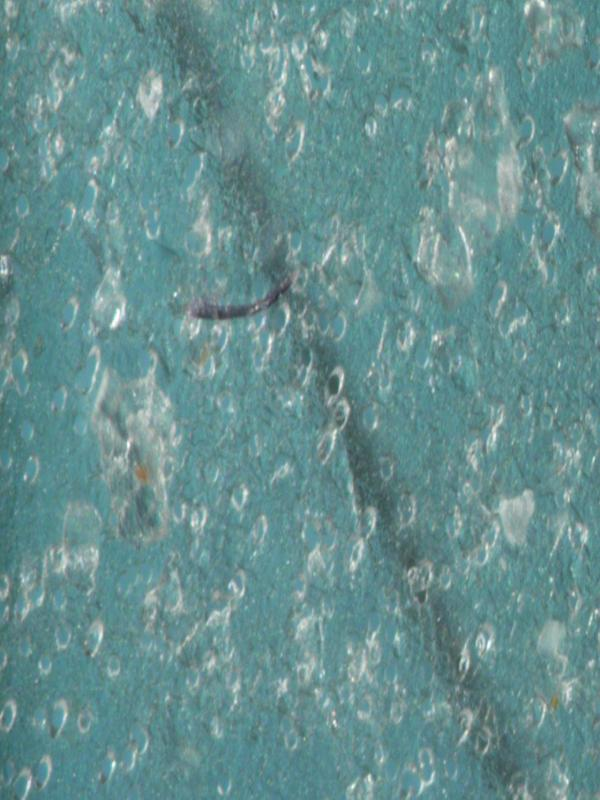microplastic: (1, 1, 599, 798), (188, 273, 292, 321)
